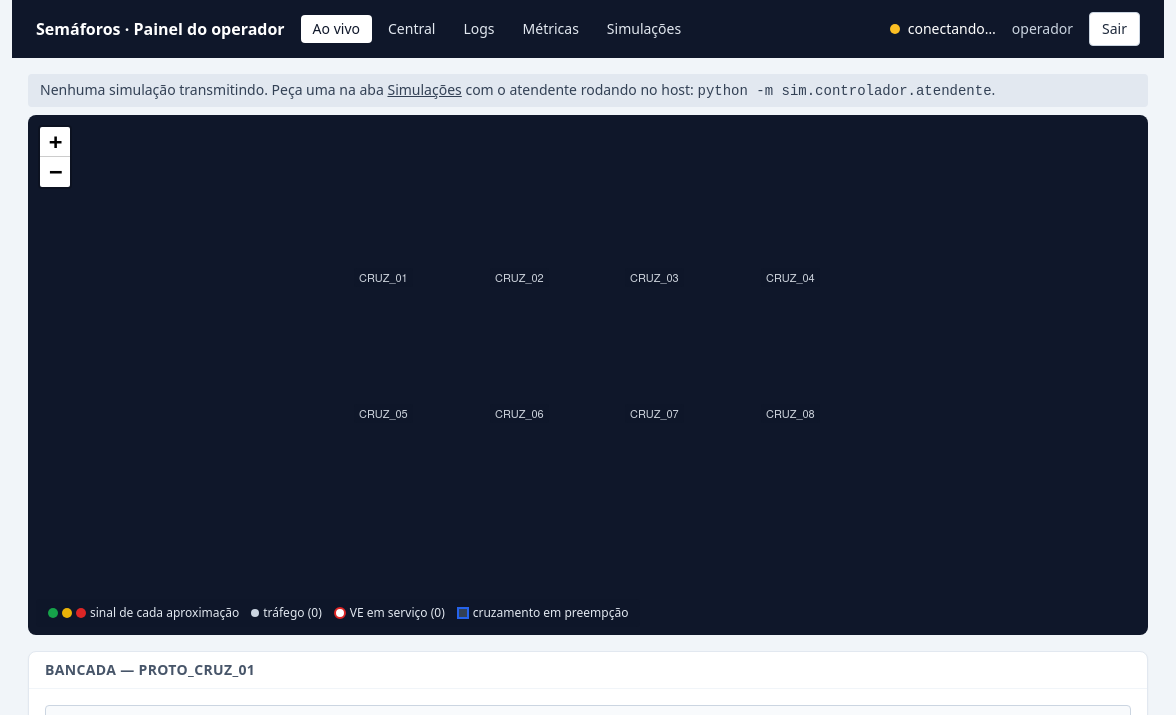
it: App › Sair volta ao login e apaga a sessão
The width and height of the screenshot is (1176, 715).
Click the button "Sair" at (1115, 29), box [1089,12,1140,46]
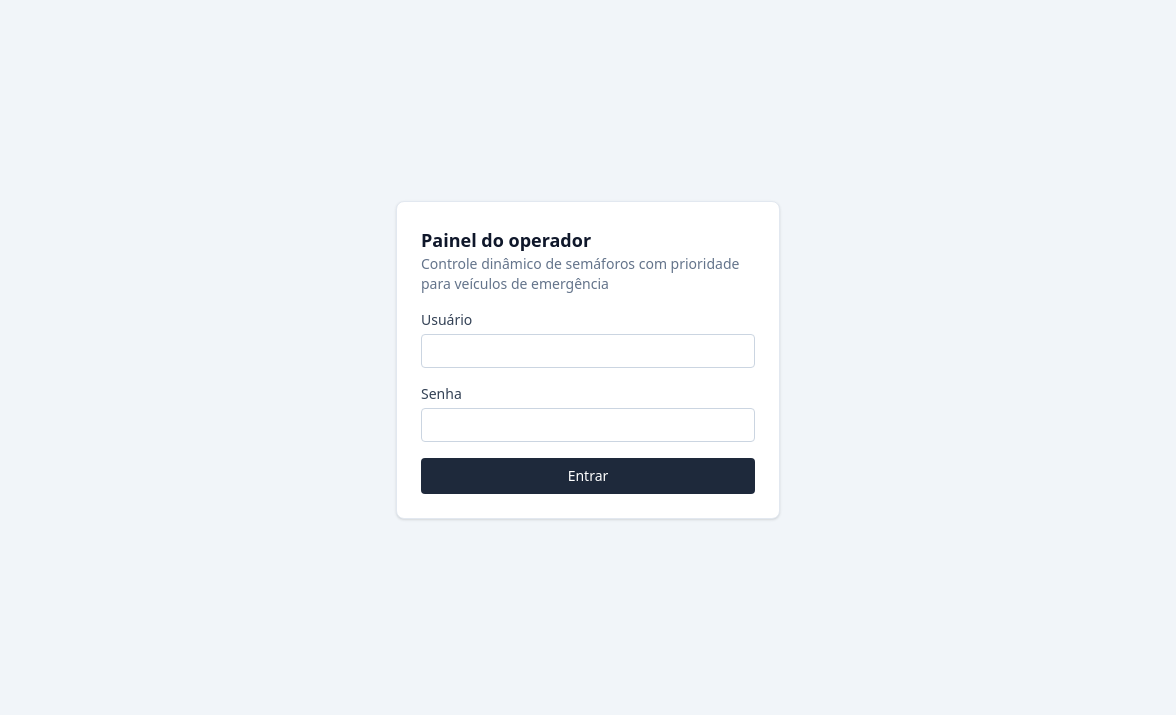
Expected: the button "Entrar" is shown, [421,458,755,494]
